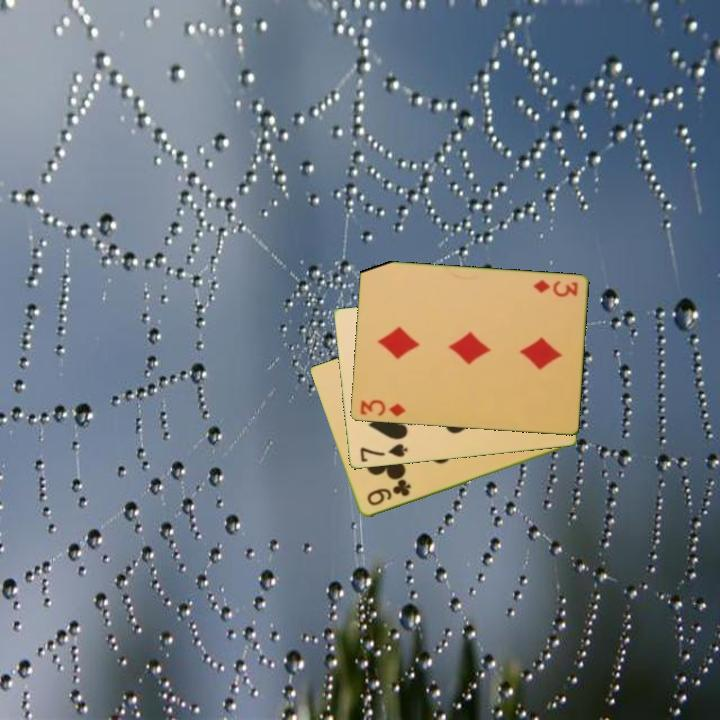3d: (356, 396, 408, 419), (530, 277, 580, 299)
7s: (356, 440, 410, 465)
9c: (363, 478, 414, 509)
